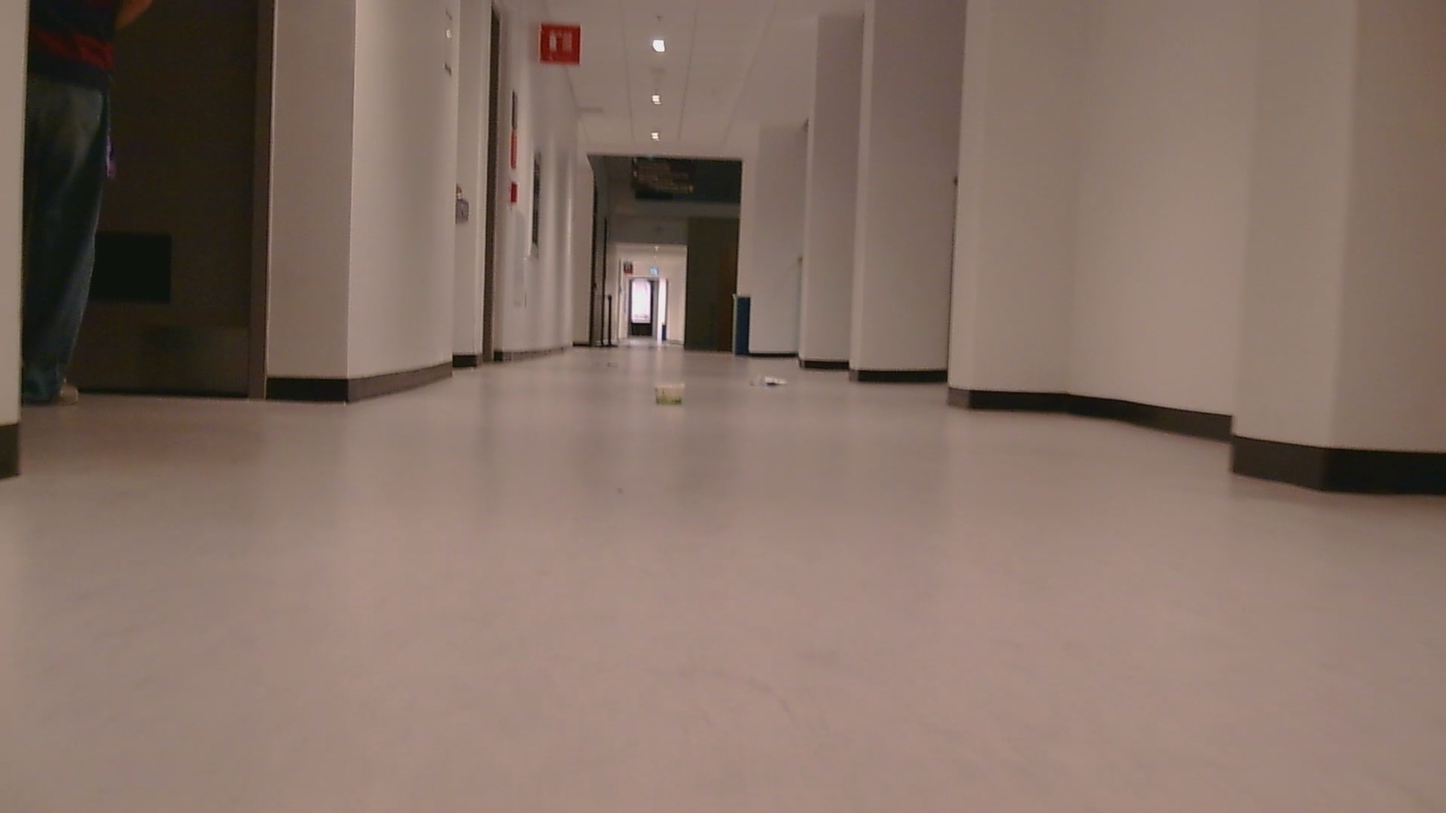carton: (654, 378, 685, 408), (756, 373, 797, 390)
